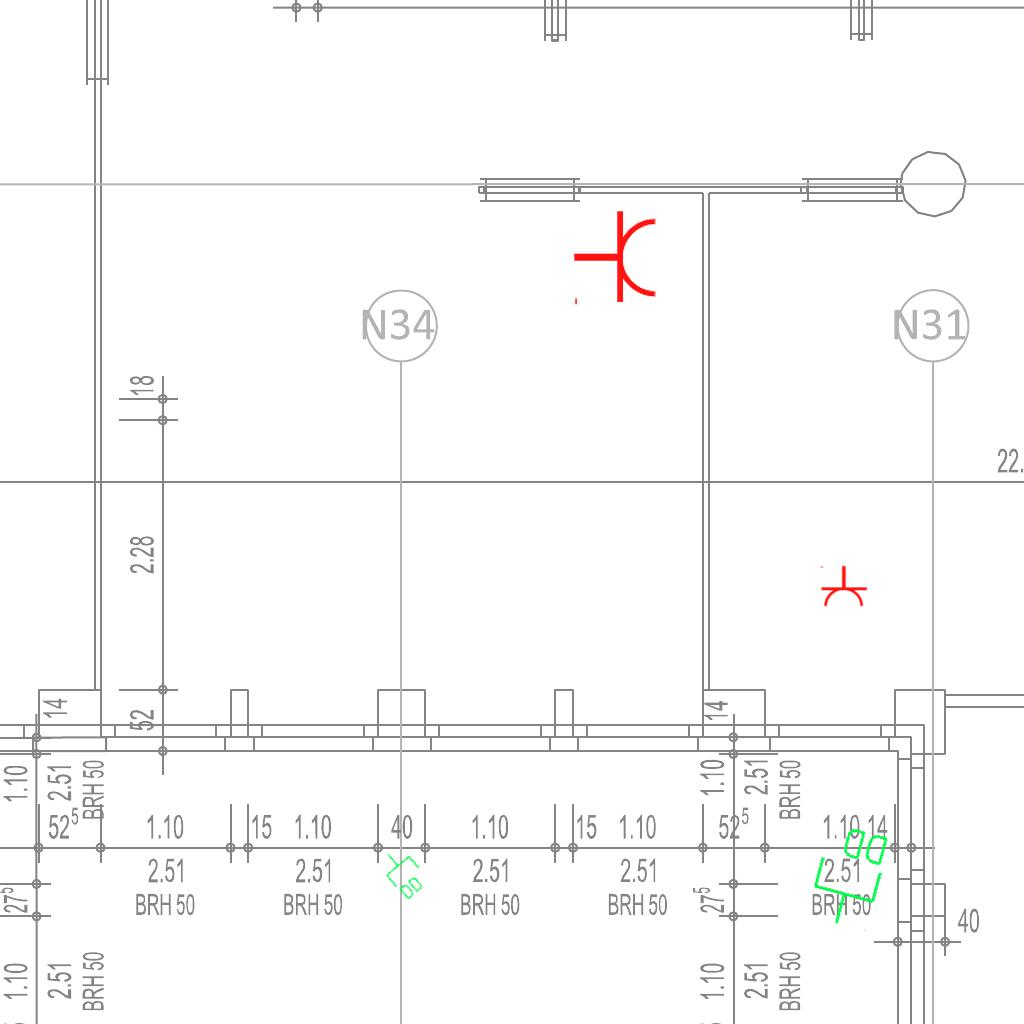Datenanschluss_zweifach: (802, 817, 897, 936), (374, 842, 433, 904)
Schukosteckdose_einfach: (572, 209, 659, 309), (818, 565, 868, 608)
